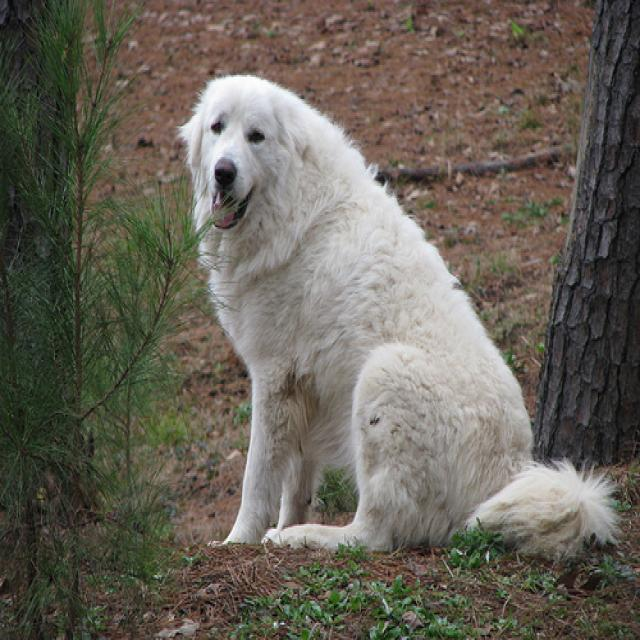dog: (178, 73, 305, 232)
